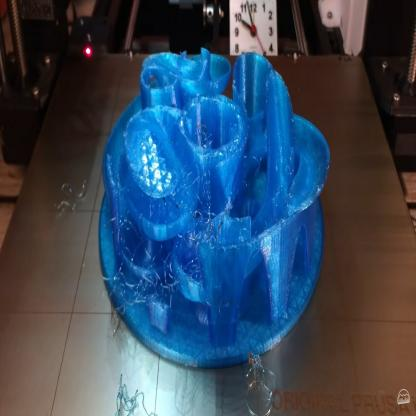fail: (119, 239, 192, 311), (110, 384, 156, 416)
